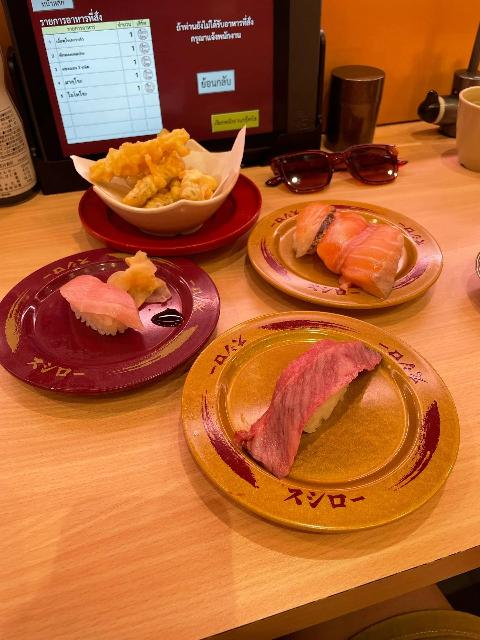jangold: (147, 292, 448, 521), (254, 210, 450, 314)
janred: (13, 253, 213, 381), (76, 170, 260, 250)
